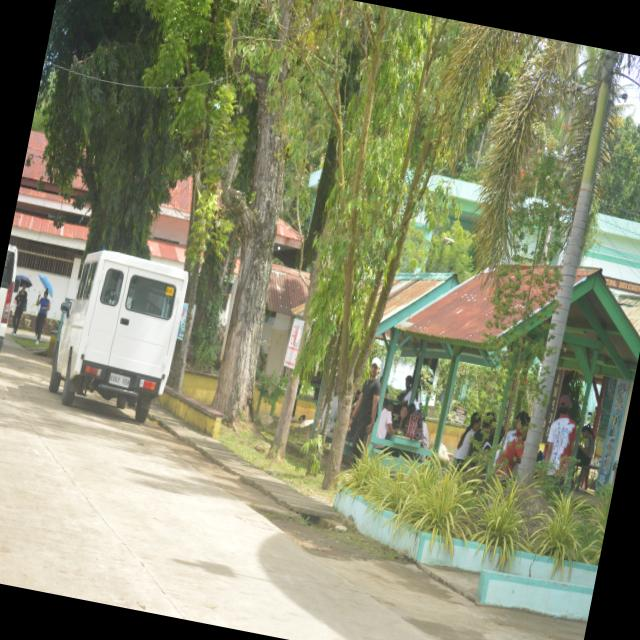person: (348, 357, 380, 456), (544, 395, 575, 475), (493, 411, 529, 476), (452, 412, 480, 468), (34, 289, 49, 343), (11, 284, 26, 335)
